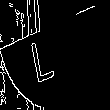L_N: (41, 27, 69, 83)
